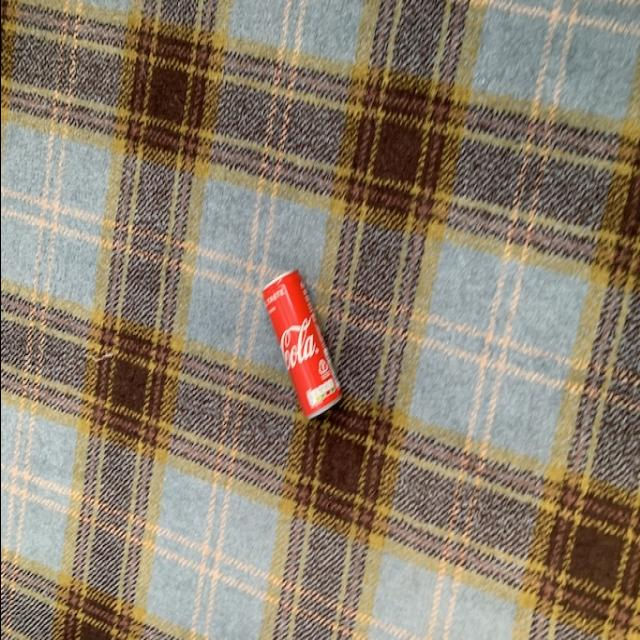litter: (262, 268, 340, 428)
